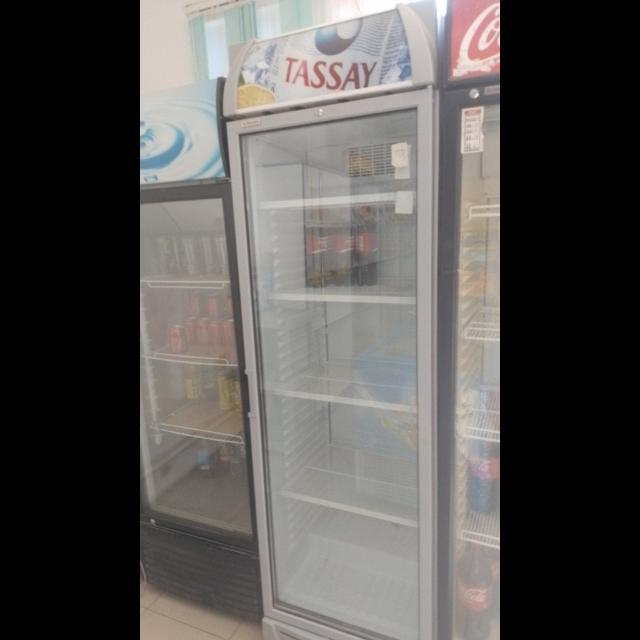Cooling-Display: (222, 1, 438, 640)
